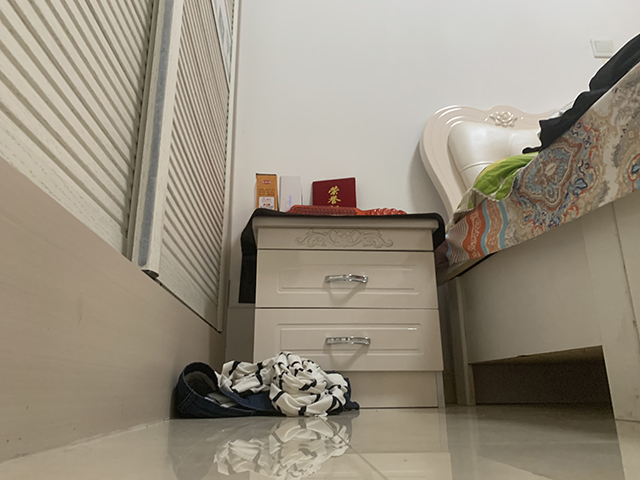bed: (417, 60, 640, 423)
cabinet: (1, 1, 243, 464), (250, 216, 447, 411)
